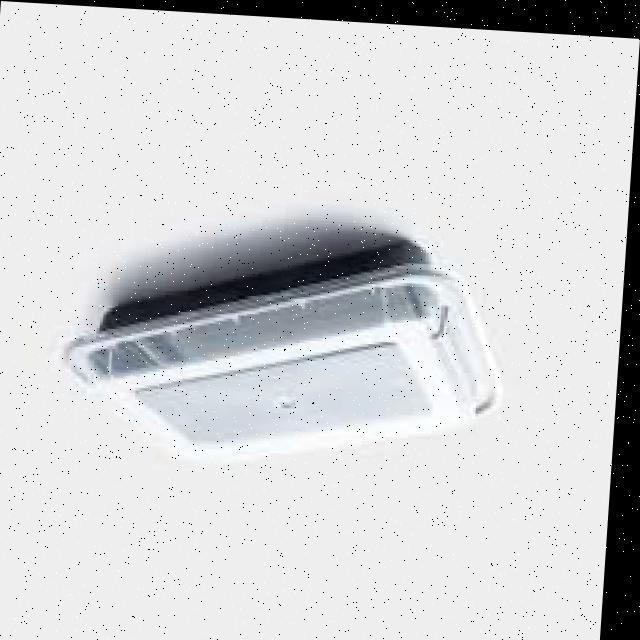disposable: (56, 207, 530, 497)
